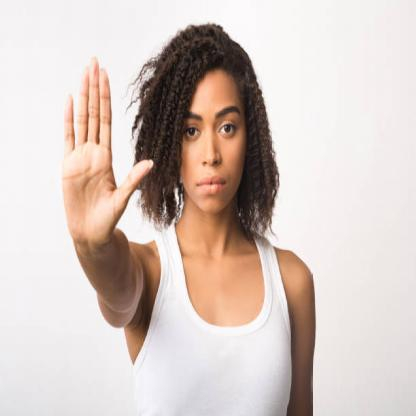stop: (57, 53, 154, 247)
